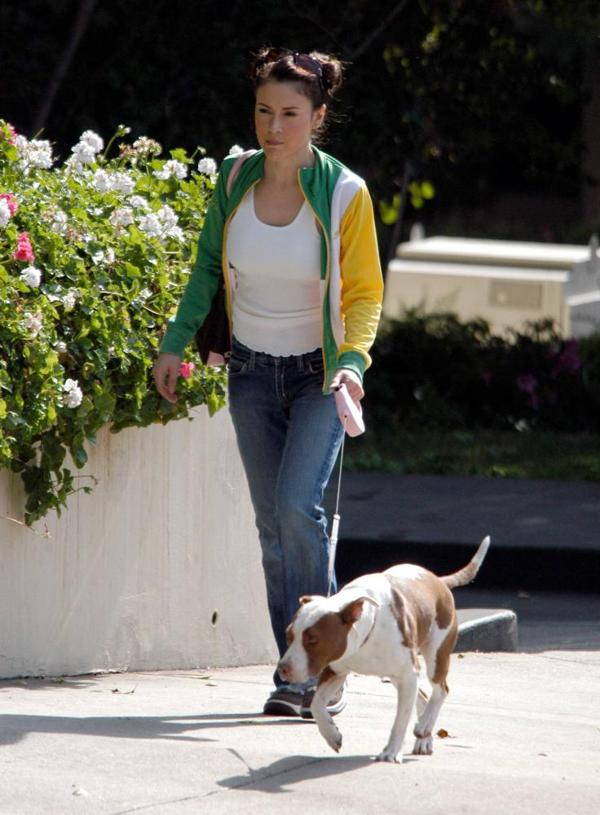person: (155, 45, 386, 723)
